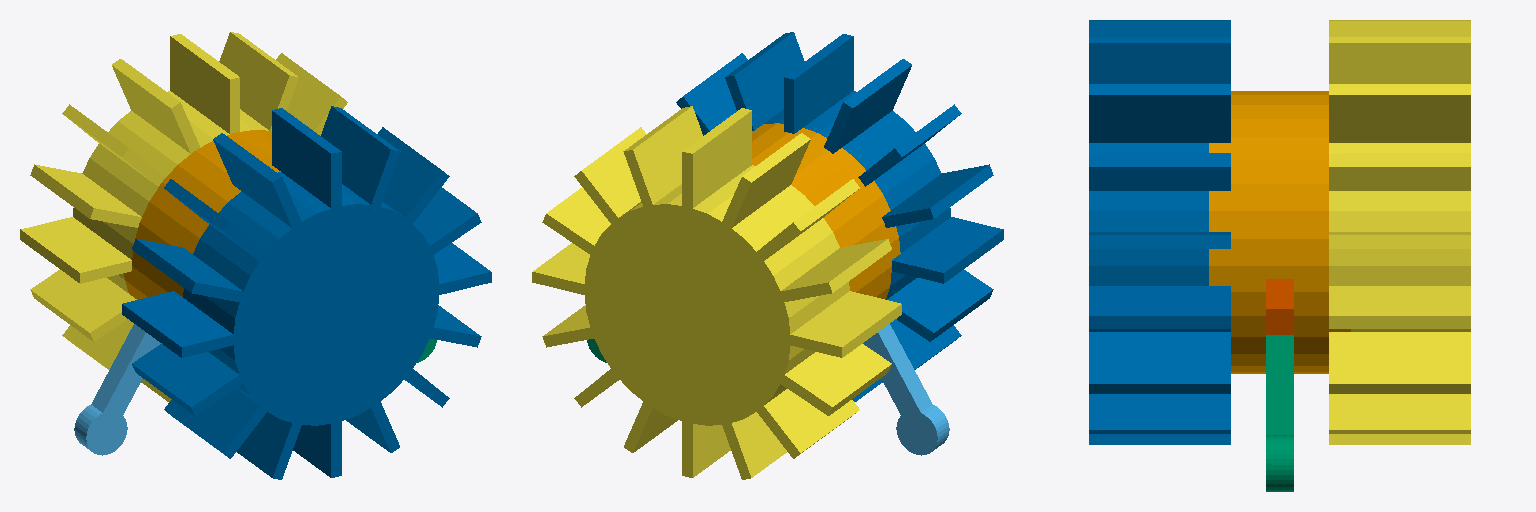
robot.urdf — pipebot:
<robot name="pipebot">
    
  <gazebo>
    <plugin filename="libgazebo_ros_diff_drive.so" name="differential_drive_controller">
      <left_joint>left_wheel_hinge</left_joint>
      <right_joint>right_wheel_hinge</right_joint>
      <wheel_separation>0.16</wheel_separation>
      <wheel_diameter>0.3</wheel_diameter>
      <!--ros>
            <remapping>/cmd_vel:=/pipebot/cmd_vel</remapping>
      </ros-->
    </plugin>
  
    <plugin filename="libgazebo_ros_p3d.so " name="p3d">
        <body_name>chassis</body_name>
    </plugin>
  
  </gazebo>
  
  <!--gazebo>  
    <plugin filename="libgazebo_ros2_control.so" name="gazebo_ros2_control">
        <robot_sim_type>gazebo_ros2_control/DefaultRobotHWSim</robot_sim_type>
        <robot_param_node>robot_state_publisher</robot_param_node>
        <parameters>$(find pipebot_control)/config/pipebot_control.yaml</parameters>
        <e_stop_topic>False</e_stop_topic>
    </plugin>
  </gazebo-->
    
  <link name='chassis'>
      <collision name="collision">
        <origin xyz="0 0 0" rpy="1.5707 0 0"/>
        <geometry>
            <cylinder radius='0.1' length='0.1' />
        </geometry>
        
        </collision>
        <visual name="visual">
        <origin xyz="0 0 0" rpy="1.5707 0 0"/>
        <geometry>
            <cylinder radius='0.1' length='0.1' />
        </geometry>
        </visual>
        
        <inertial>
        <origin xyz="0 0 -0.15" rpy="0 0 0"/>
        <mass value="5"/>
        <inertia
            ixx="1.0" ixy="0.0" ixz="0.0"
            iyy="1.0" iyz="0.0"
            izz="1.0"/>
        </inertial>
        
  </link>
  
  <link name="back_caster">
        <collision>
            <origin xyz="-0.1 0 -0.04" rpy="0 -1 0"/>
            <geometry>
            <box size='.2 .02 .02'/>
            </geometry>
        </collision>

        <visual>
            <origin xyz="-0.1 0 -0.04" rpy="0 -1 0"/>
            <geometry>
            <box size='.2 .02 .02'/>
            </geometry>
        </visual>

        <collision>
            <origin xyz="-0.15 0 -0.125" rpy="1.5707 0 0"/>
            <geometry>
                <cylinder radius='0.02' length='0.02' />
        </geometry>

        <surface>
            <friction>
            <ode>
                <mu>1e-5</mu>
                <mu2>1e-5</mu2>
            </ode>
            </friction>
        </surface>
        </collision>

        <visual>
        <origin xyz="-0.15 0 -0.125" rpy="1.5707 0 0"/>
        <geometry>
            <cylinder radius='0.02' length='0.02' />
        </geometry>
        </visual>
        <inertial>
            <origin xyz="-0.15 0 -0.125" rpy="0 0 0"/>
            <mass value="0.5"/>
            <inertia
                ixx="1.0" ixy="0.0" ixz="0.0"
                iyy="1.0" iyz="0.0"
                izz="1.0"/>
            </inertial>
    </link>
    
    <link name="front_caster">
        <collision>
            <origin xyz="0.1 0 -0.04" rpy="0 1 0"/>
            <geometry>
            <box size='.2 .02 .02'/>
            </geometry>
        </collision>

        <visual>
            <origin xyz="0.1 0 -0.04" rpy="0 1 0"/>
            <geometry>
            <box size='.2 .02 .02'/>
            </geometry>
        </visual>
    
        <collision>
            <origin xyz="0.15 0 -0.11" rpy="1.5707 0 0"/>
            <geometry>
            <cylinder radius='0.02' length='0.02' />
            </geometry>
            
        <surface>
            <friction>
            <ode>
                <mu>1e-5</mu>
                <mu2>1e-5</mu2>
            </ode>
            </friction>
        </surface>
        </collision>

        <visual>
        <origin xyz="0.15 0 -0.11" rpy="1.5707 0 0"/>
        <geometry>
            <cylinder radius='0.02' length='0.02' />
        </geometry>
        </visual>
        <inertial>
        <origin xyz="-0.15 0 -0.11" rpy="0 0 0"/>
        <mass value="0.2"/>
        <inertia
            ixx="1.0" ixy="0.0" ixz="0.0"
            iyy="1.0" iyz="0.0"
            izz="1.0"/>
        </inertial>
    </link>
    
  <joint name="back_caster_joint" type="fixed">
    <axis xyz="1 0 0" />
    <origin xyz="0 0 0" rpy="0 0 0"/>
    <parent link="chassis"/>
    <child link="back_caster"/>
  </joint>
  
  <joint name="front_caster_joint" type="fixed">
    <axis xyz="1 0 0" />
    <origin xyz="0 0 0" rpy="0 0 0"/>
    <parent link="chassis"/>
    <child link="front_caster"/>
  </joint>
  
  <link name="right_wheel">
      
        <collision name="collision">
        <origin xyz="0 0.08 0" rpy="1.5707 0 0"/>
        <geometry>
            <cylinder radius='0.1' length='0.1' />
        </geometry>
        <surface>
        <friction>
          <ode>
            <mu>100</mu>
            <mu2>100</mu2>
          </ode>
        </friction>
      </surface>
        </collision>
        <visual name="visual">
        <origin xyz="0 0.08 0" rpy="1.5707 0 0"/>
        <geometry>
            <cylinder radius='0.1' length='0.1' />
        </geometry>
        </visual>
        
        <collision name='notch1_collision'>
            <origin xyz="0 0.08 0" rpy="1.5707 0 0"/>
            <geometry>
            <box size='.3 .01 .1'/>
            </geometry>
        </collision>

        <visual name='notch1_visual'>
            <origin xyz="0 0.08 0" rpy="1.5707 0 0"/>
            <geometry>
            <box size='.3 .01 .1'/>
            </geometry>
        </visual>
        <collision name='notch2_collision'>
            <origin xyz="0 0.08 0" rpy="1.5707 1.5707 0"/>
            <geometry>
            <box size='.3 .01 .1'/>
            </geometry>
        </collision>

        <visual name='notch2_visual'>
            <origin xyz="0 0.08 0" rpy="1.5707 1.5707 0"/>
            <geometry>
            <box size='.3 .01 .1'/>
            </geometry>
        </visual>
        <collision name='notch3_collision'>
            <origin xyz="0 0.08 0" rpy="1.5707 0.7854 0"/>
            <geometry>
            <box size='.3 .01 .1'/>
            </geometry>
        </collision>

        <visual name='notch3_visual'>
            <origin xyz="0 0.08 0" rpy="1.5707 0.7854 0"/>
            <geometry>
            <box size='.3 .01 .1'/>
            </geometry>
        </visual>
        <collision name='notch4_collision'>
            <origin xyz="0 0.08 0" rpy="1.5707 2.3562 0"/>
            <geometry>
            <box size='.3 .01 .1'/>
            </geometry>
        </collision>

        <visual name='notch4_visual'>
            <origin xyz="0 0.08 0" rpy="1.5707 2.3562 0"/>
            <geometry>
            <box size='.3 .01 .1'/>
            </geometry>
        </visual>
        <collision name='notch5_collision'>
            <origin xyz="0 0.08 0" rpy="1.5707 0.3927 0"/>
            <geometry>
            <box size='.3 .01 .1'/>
            </geometry>
        </collision>

        <visual name='notch5_visual'>
            <origin xyz="0 0.08 0" rpy="1.5707 0.3927 0"/>
            <geometry>
            <box size='.3 .01 .1'/>
            </geometry>
        </visual>
        <collision name='notch6_collision'>
            <origin xyz="0 0.08 0" rpy="1.5707 1.1781 0"/>
            <geometry>
            <box size='.3 .01 .1'/>
            </geometry>
        </collision>

        <visual name='notch6_visual'>
            <origin xyz="0 0.08 0" rpy="1.5707 1.1781 0"/>
            <geometry>
            <box size='.3 .01 .1'/>
            </geometry>
        </visual>
        <collision name='notch7_collision'>
            <origin xyz="0 0.08 0" rpy="1.5707 1.9635 0"/>
            <geometry>
            <box size='.3 .01 .1'/>
            </geometry>
        </collision>

        <visual name='notch7_visual'>
            <origin xyz="0 0.08 0" rpy="1.5707 1.9635 0"/>
            <geometry>
            <box size='.3 .01 .1'/>
            </geometry>
        </visual>
        <collision name='notch8_collision'>
            <origin xyz="0 0.08 0" rpy="1.5707 2.7489 0"/>
            <geometry>
            <box size='.3 .01 .1'/>
            </geometry>
        </collision>

        <visual name='notch8_visual'>
            <origin xyz="0 0.08 0" rpy="1.5707 2.7489 0"/>
            <geometry>
            <box size='.3 .01 .1'/>
            </geometry>
        </visual>
        
        <inertial>
            <origin xyz="0 0.08 0" rpy="0 0 0"/>
            <mass value="0.5"/>
            <inertia
                ixx="1.0" ixy="0.0" ixz="0.0"
                iyy="1.0" iyz="0.0"
                izz="1.0"/>
        </inertial>
        
  </link>
  
  <link name="left_wheel">
        <collision name="collision">
        <origin xyz="0 -0.08 0" rpy="1.5707 0 0"/>
        <geometry>
            <cylinder radius='0.1' length='0.1' />
        </geometry>
        <surface>
        <friction>
          <ode>
            <mu>100</mu>
            <mu2>100</mu2>
          </ode>
        </friction>
      </surface>
        </collision>
        <visual name="visual">
        <origin xyz="0 -0.08 0" rpy="1.5707 0 0"/>
        <geometry>
            <cylinder radius='0.1' length='0.1' />
        </geometry>
        </visual>
        
        <collision name='notch1_collision'>
            <origin xyz="0 -0.08 0" rpy="1.5707 0 0"/>
            <geometry>
            <box size='.3 .01 .1'/>
            </geometry>
        </collision>

        <visual name='notch1_visual'>
            <origin xyz="0 -0.08 0" rpy="1.5707 0 0"/>
            <geometry>
            <box size='.3 .01 .1'/>
            </geometry>
        </visual>
        <collision name='notch2_collision'>
            <origin xyz="0 -0.08 0" rpy="1.5707 1.5707 0"/>
            <geometry>
            <box size='.3 .01 .1'/>
            </geometry>
        </collision>

        <visual name='notch2_visual'>
            <origin xyz="0 -0.08 0" rpy="1.5707 1.5707 0"/>
            <geometry>
            <box size='.3 .01 .1'/>
            </geometry>
        </visual>
        <collision name='notch3_collision'>
            <origin xyz="0 -0.08 0" rpy="1.5707 0.7854 0"/>
            <geometry>
            <box size='.3 .01 .1'/>
            </geometry>
        </collision>

        <visual name='notch3_visual'>
            <origin xyz="0 -0.08 0" rpy="1.5707 0.7854 0"/>
            <geometry>
            <box size='.3 .01 .1'/>
            </geometry>
        </visual>
        <collision name='notch4_collision'>
            <origin xyz="0 -0.08 0" rpy="1.5707 2.3562 0"/>
            <geometry>
            <box size='.3 .01 .1'/>
            </geometry>
        </collision>

        <visual name='notch4_visual'>
            <origin xyz="0 -0.08 0" rpy="1.5707 2.3562 0"/>
            <geometry>
            <box size='.3 .01 .1'/>
            </geometry>
        </visual>
        <collision name='notch5_collision'>
            <origin xyz="0 -0.08 0" rpy="1.5707 0.3927 0"/>
            <geometry>
            <box size='.3 .01 .1'/>
            </geometry>
        </collision>

        <visual name='notch5_visual'>
            <origin xyz="0 -0.08 0" rpy="1.5707 0.3927 0"/>
            <geometry>
            <box size='.3 .01 .1'/>
            </geometry>
        </visual>
        <collision name='notch6_collision'>
            <origin xyz="0 -0.08 0" rpy="1.5707 1.1781 0"/>
            <geometry>
            <box size='.3 .01 .1'/>
            </geometry>
        </collision>

        <visual name='notch6_visual'>
            <origin xyz="0 -0.08 0" rpy="1.5707 1.1781 0"/>
            <geometry>
            <box size='.3 .01 .1'/>
            </geometry>
        </visual>
        <collision name='notch7_collision'>
            <origin xyz="0 -0.08 0" rpy="1.5707 1.9635 0"/>
            <geometry>
            <box size='.3 .01 .1'/>
            </geometry>
        </collision>

        <visual name='notch7_visual'>
            <origin xyz="0 -0.08 0" rpy="1.5707 1.9635 0"/>
            <geometry>
            <box size='.3 .01 .1'/>
            </geometry>
        </visual>
        <collision name='notch8_collision'>
            <origin xyz="0 -0.08 0" rpy="1.5707 2.7489 0"/>
            <geometry>
            <box size='.3 .01 .1'/>
            </geometry>
        </collision>

        <visual name='notch8_visual'>
            <origin xyz="0 -0.08 0" rpy="1.5707 2.7489 0"/>
            <geometry>
            <box size='.3 .01 .1'/>
            </geometry>
        </visual>
        
        <inertial>
            <origin xyz="0 -0.08 0" rpy="0 0 0"/>
            <mass value="0.5"/>
            <inertia
                ixx="1.0" ixy="0.0" ixz="0.0"
                iyy="1.0" iyz="0.0"
                izz="1.0"/>
        </inertial>
        
  </link>

  <joint name="left_wheel_hinge" type="continuous">
    <origin rpy="0 0 0" xyz="0 -0.005 0"/>
    <child link="left_wheel"/>
    <parent link="chassis"/>
    <axis rpy="0 0 0" xyz="0 1 0"/>
    <limit effort="10000" velocity="1000"/>
    <joint_properties damping="1.0" friction="1.0"/>
  </joint>
  
  <joint name="right_wheel_hinge" type="continuous">
    <origin rpy="0 0 0" xyz="0 0.005 0"/>
    <child link="right_wheel"/>
    <parent link="chassis"/>
    <axis rpy="0 0 0" xyz="0 1 0"/>
    <limit effort="10000" velocity="1000"/>
    <joint_properties damping="1.0" friction="1.0"/>
  </joint>
  
  <!--transmission name="right_wheel_trans">
    <type>transmission_interface/SimpleTransmission</type>
    <joint name="right_wheel_hinge">
      <hardwareInterface>EffortJointInterface</hardwareInterface>
    </joint>
    <actuator name="right_motor">
      <hardwareInterface>EffortJointInterface</hardwareInterface>
      <mechanicalReduction>1</mechanicalReduction>
    </actuator>
  </transmission>

  <transmission name="left_wheel_trans">
    <type>transmission_interface/SimpleTransmission</type>
    <joint name="left_wheel_hinge">
      <hardwareInterface>VelocityJointInterface</hardwareInterface>
    </joint>
    <actuator name="left_motor">
      <hardwareInterface>VelocityJointInterface</hardwareInterface>
      <mechanicalReduction>1</mechanicalReduction>
    </actuator>
  </transmission-->
  

  <joint name="sensor_joint" type="fixed">
    <axis xyz="0 1 0" />
    <origin xyz="0.14 0 0" rpy="0 0 0"/>
    <parent link="chassis"/>
    <child link="sensor_link"/>
  </joint>

  <link name="sensor_link">
    <!--collision>
      <origin xyz="0 0 0" rpy="0 0 0"/>
      <geometry>
    <box size="0.1 0.1 0.1"/>
      </geometry>
    </collision-->

    <visual>
      <origin xyz="-0.03 0 0" rpy="0 0 0"/>
      <geometry>
          <box size="0.08 0.02 0.02"/>
      </geometry>
    </visual>

    <inertial>
      <mass value="1e-5" />
      <origin xyz="0 0 0" rpy="0 0 0"/>
      <inertia ixx="1e-6" ixy="0" ixz="0" iyy="1e-6" iyz="0" izz="1e-6" />
    </inertial>
  </link>
  
  <gazebo reference="sensor_link">
      <sensor name="sensor_ray" type="ray">
        <pose>0.5 0 0 0 0 0</pose>
        <ray>
          <scan>
            <horizontal>
              <samples>3</samples>
              <resolution>1.0</resolution>
              <min_angle>-0.4</min_angle>
              <max_angle>0.4</max_angle>
            </horizontal>
          </scan>
          <range>
            <min>0.05</min>
            <max>0.5</max>
          </range>
        </ray>
        <always_on>true</always_on>
        <visualize>true</visualize>
        <update_rate>100.0</update_rate>
        <plugin name="laser" filename="libgazebo_ros_ray_sensor.so">
          <ros>
            <remapping>~/out:=laser_scan</remapping>
          </ros>
          <output_type>sensor_msgs/LaserScan</output_type>
        </plugin>
      </sensor>
  </gazebo>

</robot>

--- What the picture shows (computed from the rendered views, not written in the file) ---
The picture shows the robot from 3 angles, left to right: view 1: azimuth 30°, elevation 25°; view 2: azimuth 150°, elevation 25°; view 3: azimuth 270°, elevation 25°; orthographic projection.
Model pipebot with 6 links and 5 joints (2 continuous, 3 fixed), rooted at chassis, posed every joint at zero.
Visible links, largest first — view 1: left_wheel, right_wheel, chassis, back_caster; view 2: right_wheel, left_wheel, chassis, back_caster; view 3: right_wheel, left_wheel, chassis, front_caster, sensor_link.
Link boxes in pixels (<box>): left_wheel: <box>122,106,491,479</box>; right_wheel: <box>20,32,347,401</box>; chassis: <box>124,130,280,299</box>; back_caster: <box>74,324,160,455</box>; right_wheel: <box>532,106,901,479</box>; left_wheel: <box>676,32,1003,401</box>; chassis: <box>752,123,900,299</box>; back_caster: <box>863,324,949,455</box>; right_wheel: <box>1329,20,1470,444</box>; left_wheel: <box>1089,20,1230,444</box>; chassis: <box>1209,91,1350,373</box>; front_caster: <box>1266,335,1293,491</box>; sensor_link: <box>1266,279,1293,334</box>.
Bounding box of the posed robot: 0.34 × 0.27 × 0.3 m (x, y, z).
Geometry: primitives only (box / cylinder / sphere), no mesh files.
